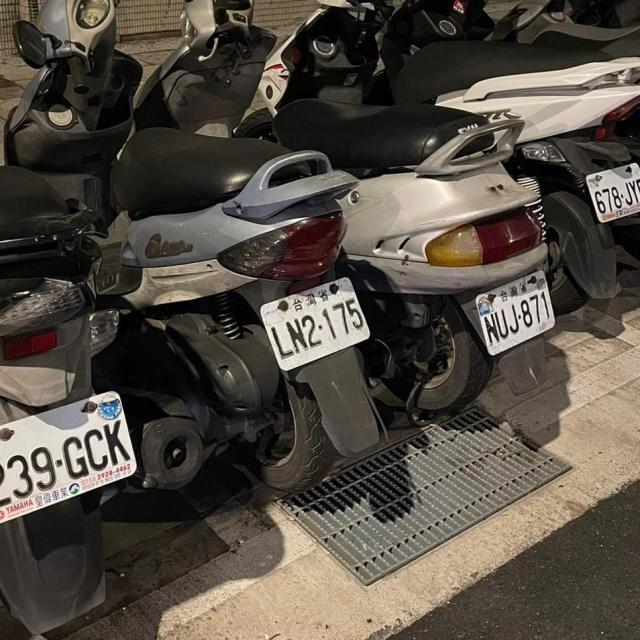W: (0, 381, 147, 531), (254, 267, 378, 374), (468, 259, 572, 359), (579, 150, 640, 227)
